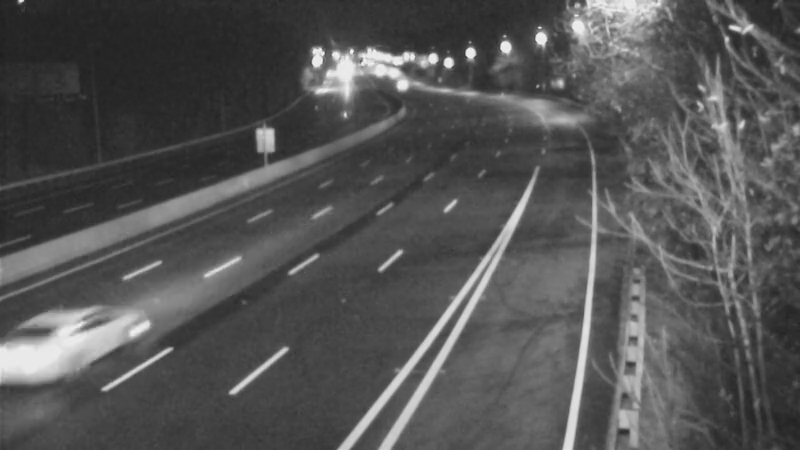vehicle: (21, 293, 131, 403), (368, 58, 418, 108)
